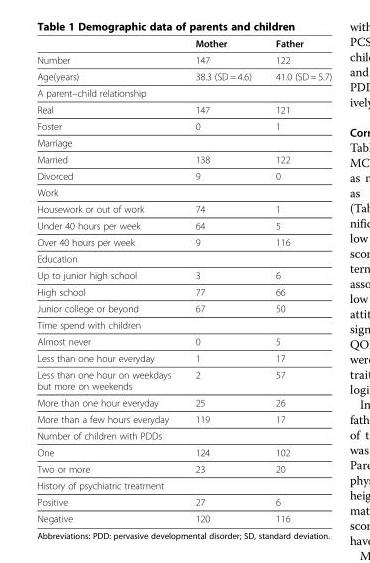table: (36, 37, 331, 523)
table column: (36, 37, 182, 523), (182, 37, 262, 523), (262, 37, 331, 523)
table column header: (36, 37, 331, 51)
table projected row header: (36, 84, 331, 101), (36, 183, 331, 200), (36, 476, 331, 493), (36, 134, 331, 150), (36, 250, 331, 266), (36, 316, 331, 332), (36, 427, 331, 443)
table row: (36, 366, 331, 394), (36, 67, 331, 84), (36, 84, 331, 101), (36, 117, 331, 134), (36, 150, 331, 167), (36, 183, 331, 200), (36, 200, 331, 217), (36, 233, 331, 250), (36, 266, 331, 283), (36, 299, 331, 316), (36, 332, 331, 349), (36, 349, 331, 366), (36, 410, 331, 427), (36, 443, 331, 460), (36, 476, 331, 493), (36, 493, 331, 510), (36, 51, 331, 67), (36, 101, 331, 117), (36, 134, 331, 150), (36, 167, 331, 183), (36, 217, 331, 233), (36, 250, 331, 266), (36, 283, 331, 299), (36, 316, 331, 332), (36, 394, 331, 410), (36, 427, 331, 443), (36, 460, 331, 476), (36, 37, 331, 51), (36, 510, 331, 523)
